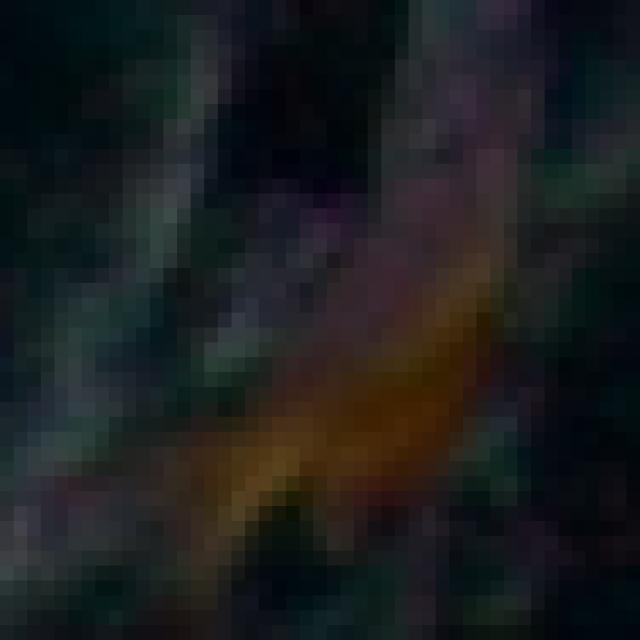fish: (13, 0, 640, 625)
